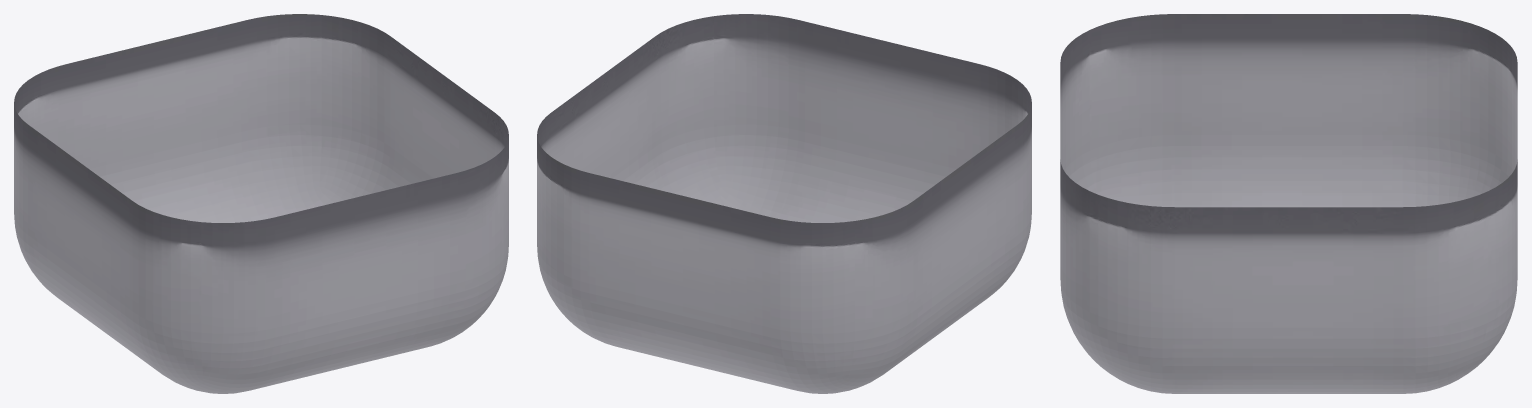
File: room_v2.glb
The picture shows the model from 3 angles, left to right: view 1: azimuth 30°, elevation 25°; view 2: azimuth 150°, elevation 25°; view 3: azimuth 270°, elevation 25°; orthographic projection. The views are drawn at different scales.
Parts seen in each view (by area): view 1: room_shell; view 2: room_shell; view 3: room_shell.
Part boxes in pixels (x1,y1,x2,y2): room_shell: (14,14,508,393); room_shell: (537,14,1031,393); room_shell: (1060,14,1517,393).
Bounding box in the file's own units: 72000 × 39008 × 72000.
Materials: 6 (3 with a texture image).
